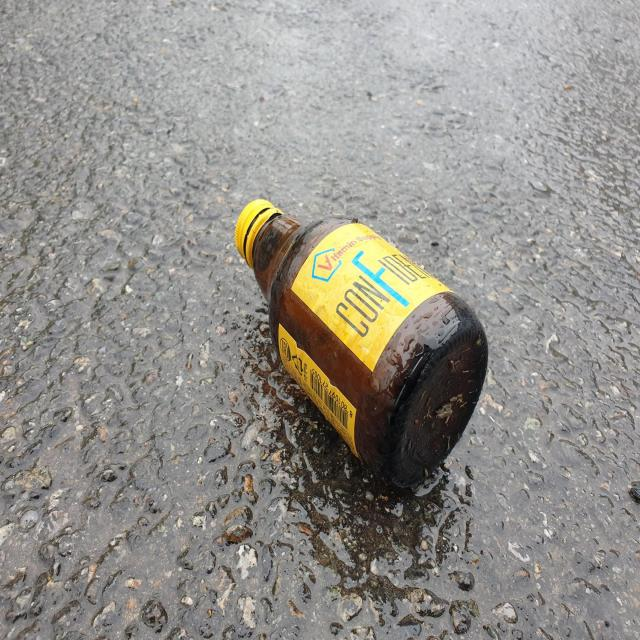glass: (235, 200, 489, 488)
